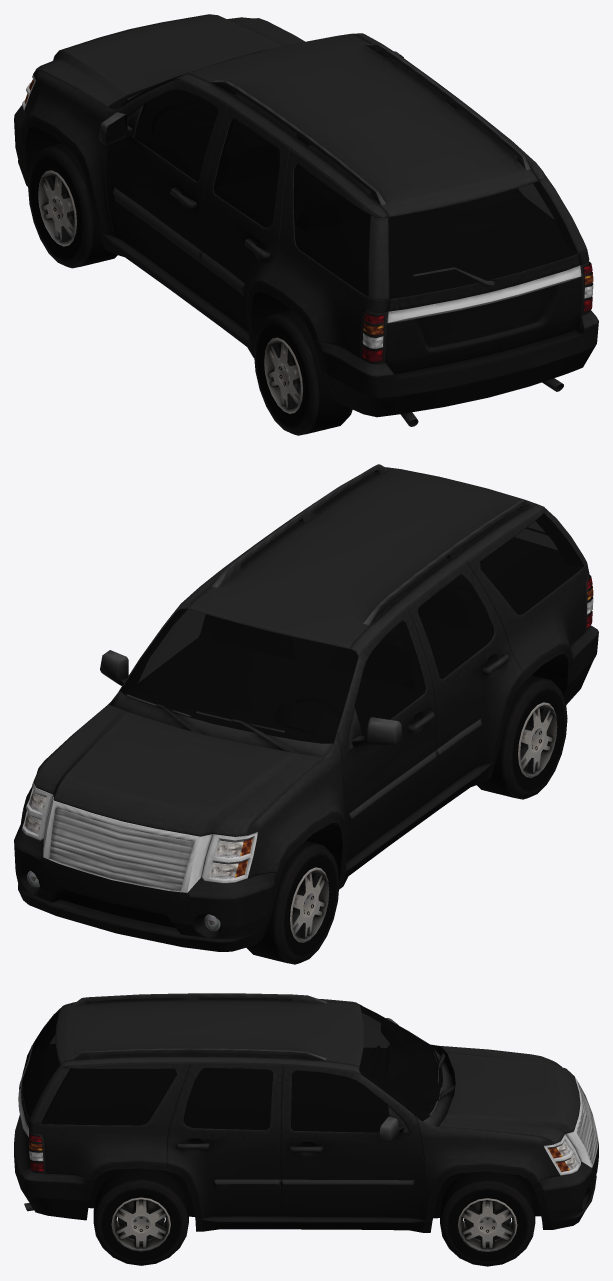
Rendered from c_suv.glb.
3 views of the same model, one above another, from view 1: azimuth 30°, elevation 25°; view 2: azimuth 150°, elevation 25°; view 3: azimuth 270°, elevation 25° (orthographic). The views are drawn at different scales.
Visible parts, largest first — view 1: body|Body_7, body|glass, body|Wheel_6, body|Optics_7; view 2: body|Body_7, body|glass, body|Wheel_6, body|Optics_7; view 3: body|Body_7, body|glass, body|Wheel_6, body|Optics_7.
Part boxes in pixels (<box>): body|Body_7: <box>14,14,598,426</box>; body|glass: <box>120,49,577,299</box>; body|Wheel_6: <box>28,143,352,435</box>; body|Optics_7: <box>24,79,593,362</box>; body|Body_7: <box>14,464,598,951</box>; body|glass: <box>120,513,583,743</box>; body|Wheel_6: <box>246,675,567,964</box>; body|Optics_7: <box>24,574,593,931</box>; body|Body_7: <box>14,993,598,1248</box>; body|glass: <box>22,1005,442,1132</box>; body|Wheel_6: <box>93,1168,535,1266</box>; body|Optics_7: <box>29,1132,577,1171</box>.
Size of the model in its own units: 2.07 by 1.73 by 4.61.
Materials: 4 (3 with a texture image).
